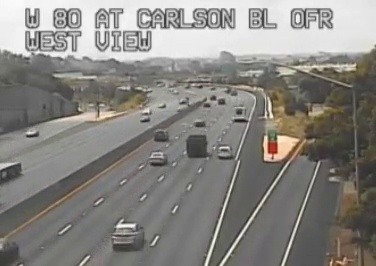car: (113, 223, 143, 247), (149, 152, 167, 165), (217, 146, 232, 159), (154, 130, 168, 141)
